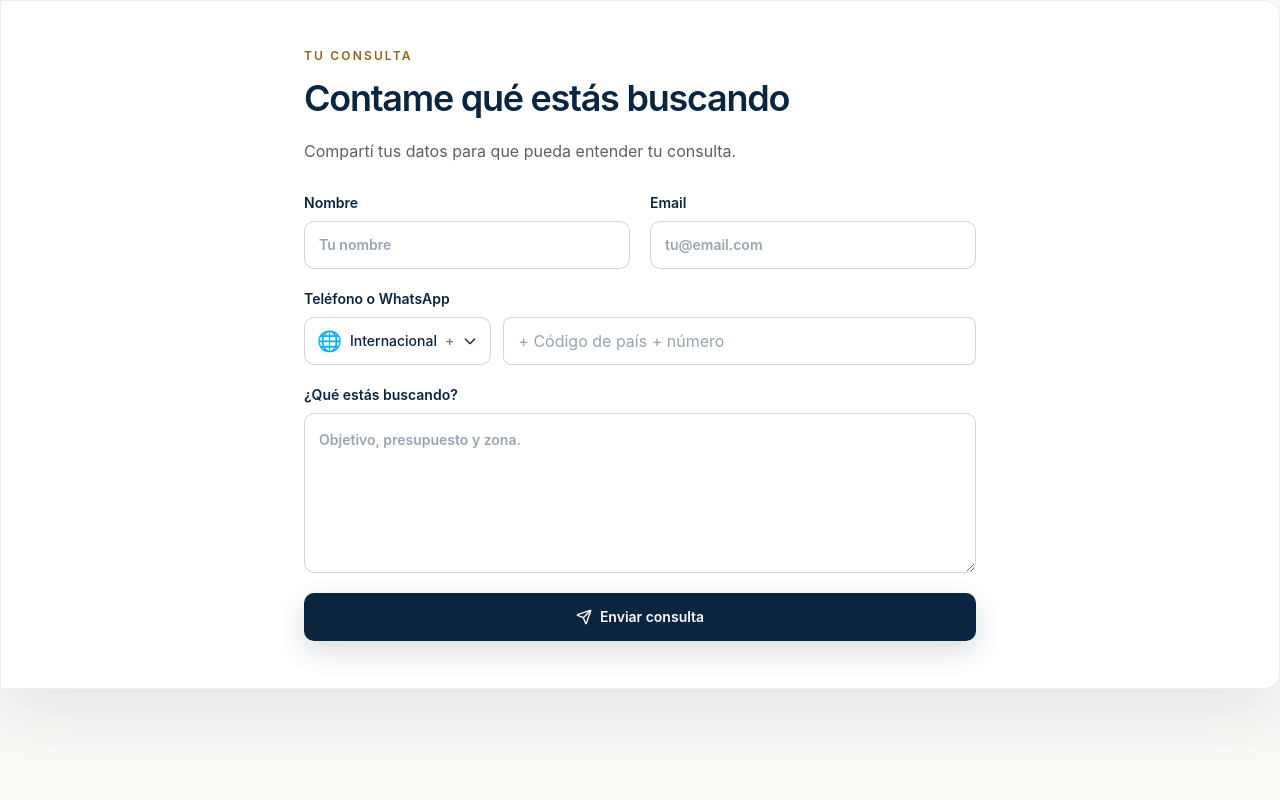
ContactForm › shows the specific rate-limit notice and leaves the form recoverable
Type "Casey Example" into the field labelled "Nombre" at x=467, y=245, box [304,221,630,269]
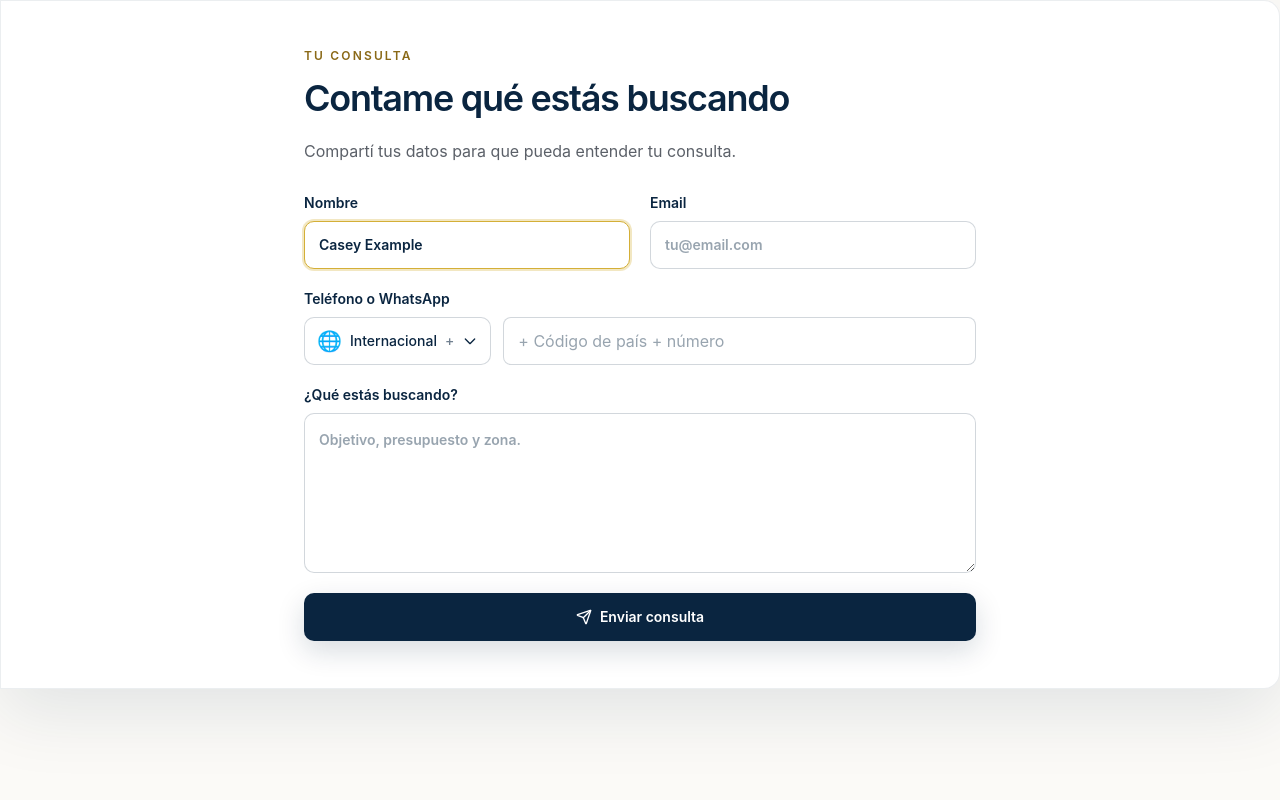
Type "casey@example.com" into the field labelled "Email" at x=813, y=245, box [650,221,976,269]
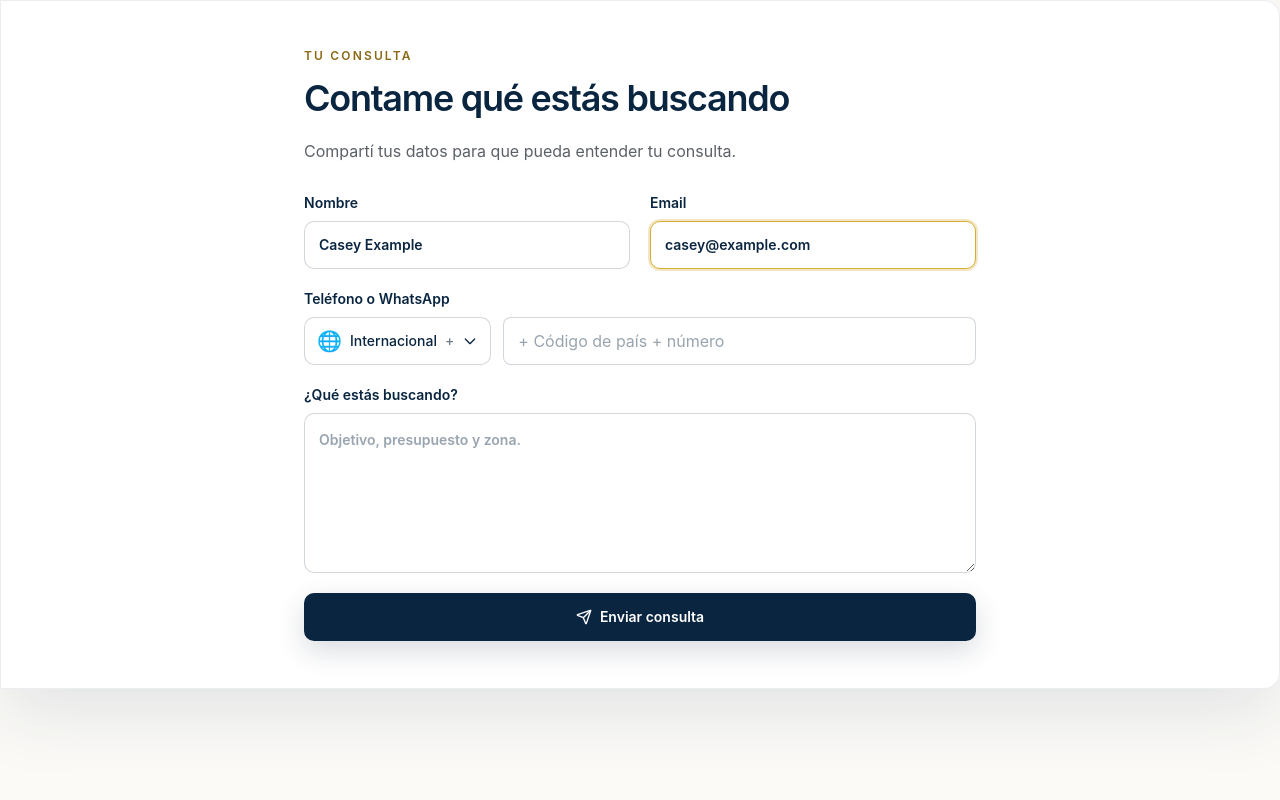
Type "+12025550123" into the field labelled "Teléfono o WhatsApp" at x=740, y=341, box [503,317,976,365]
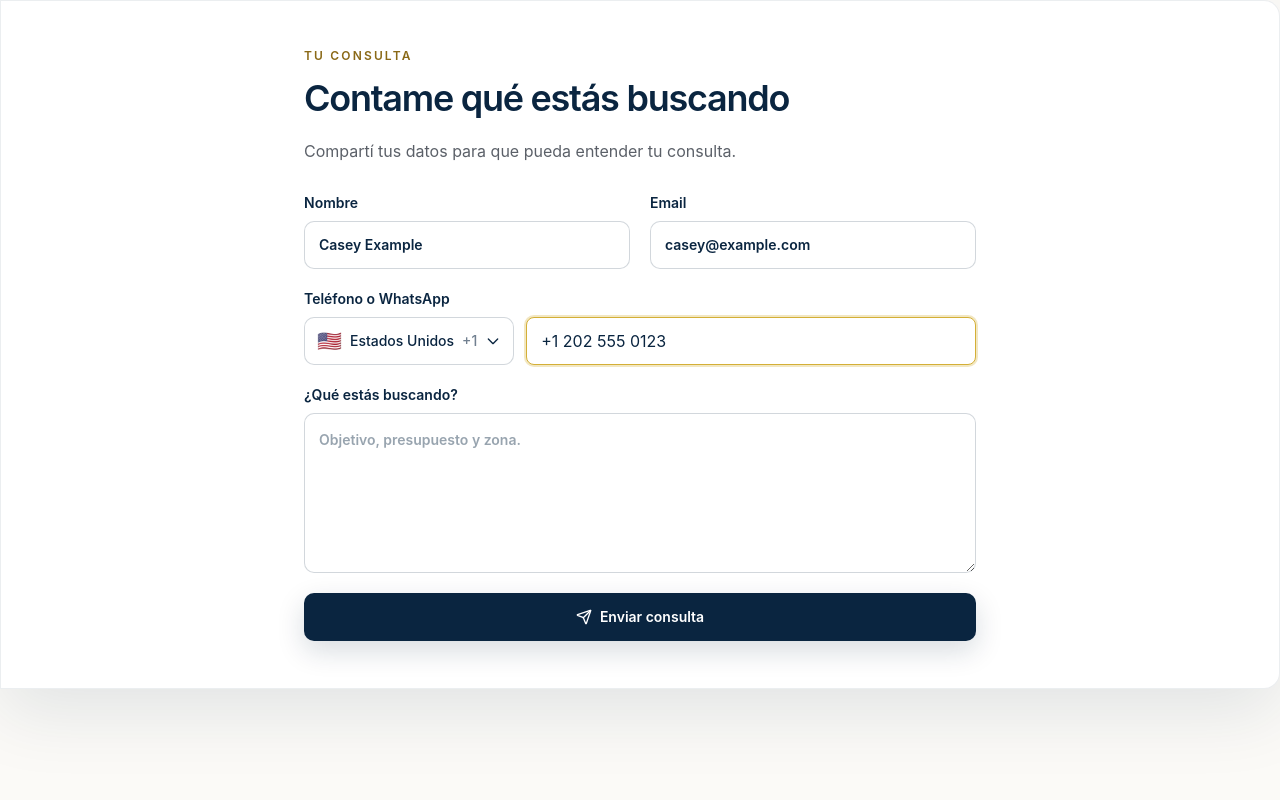
Type "I am testing a fictional Miami inquiry." into the text box labelled "¿Qué estás buscando?" at x=640, y=493, box [304,413,976,573]
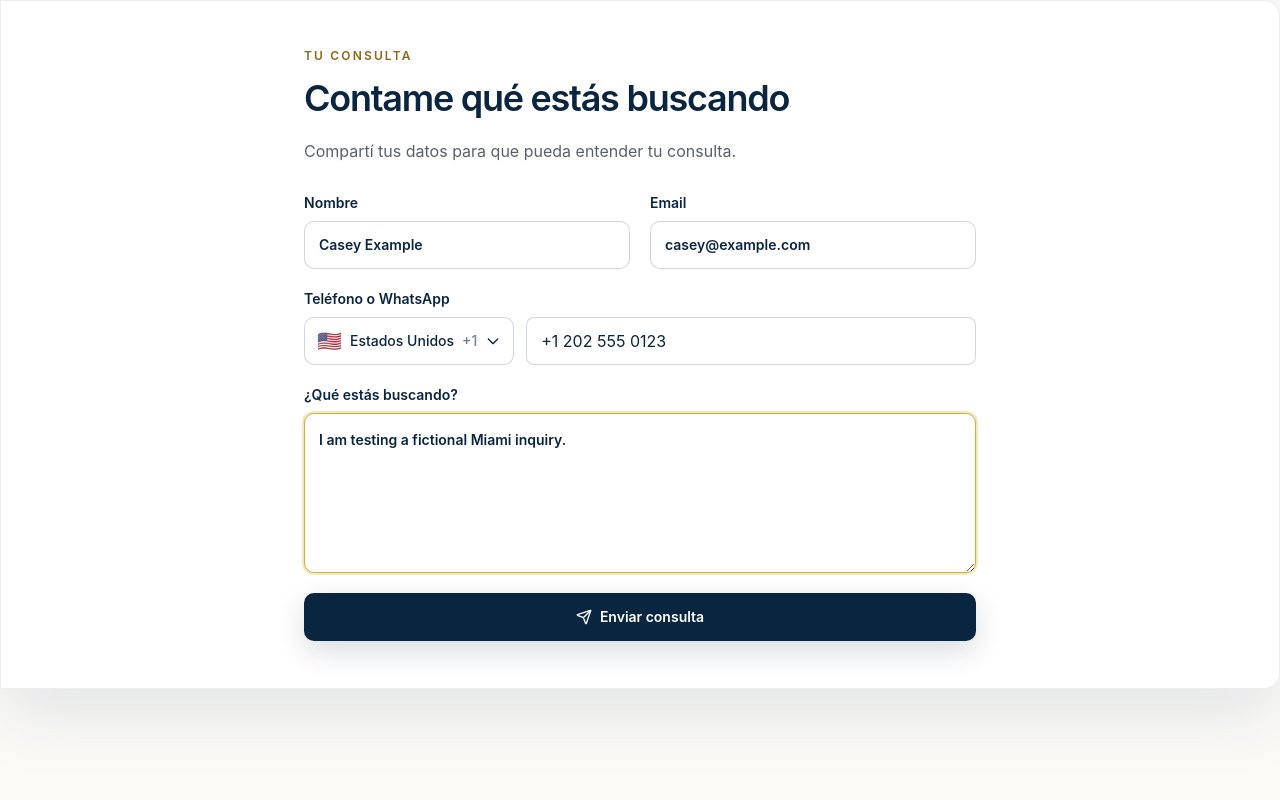
Click the button "Enviar consulta" at x=640, y=617, box [304,593,976,641]
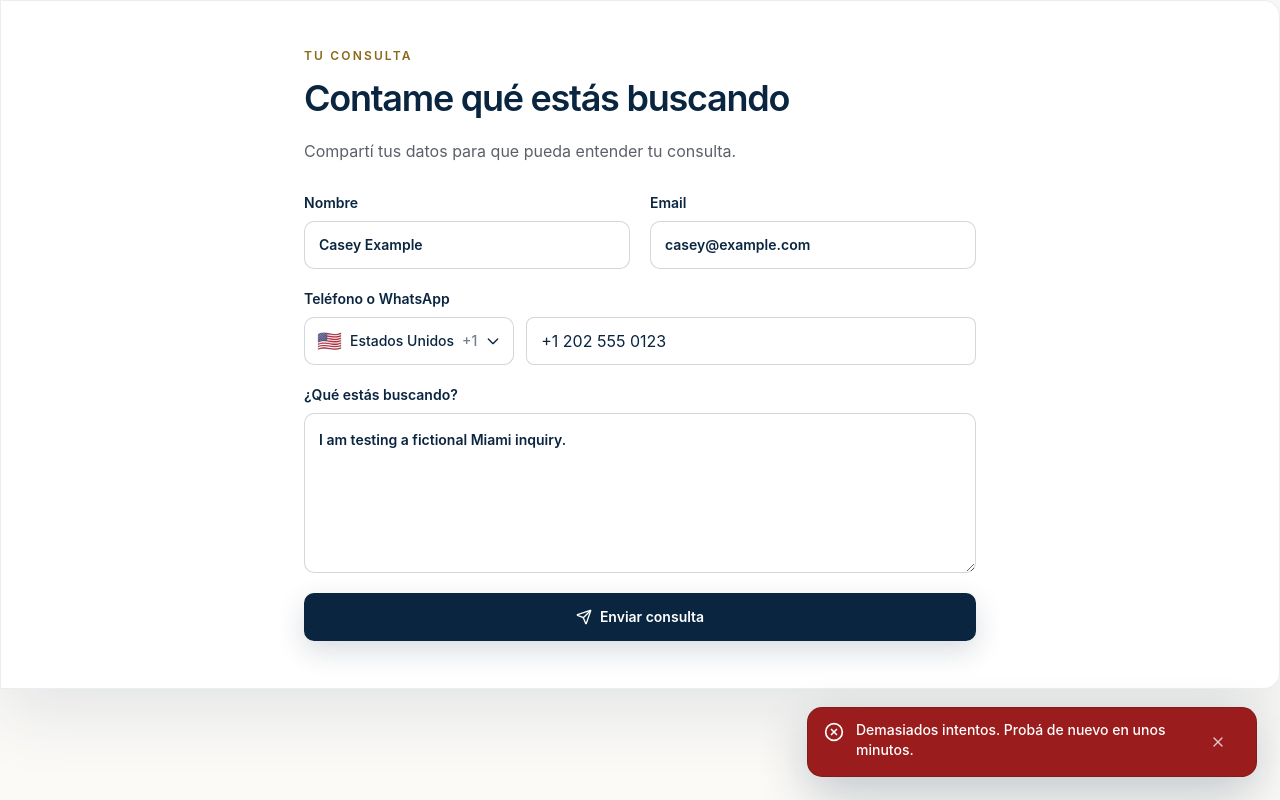
Expected: the message reads "Demasiados intentos. Probá de nuevo en unos minutos.", [856,721,1166,758]
